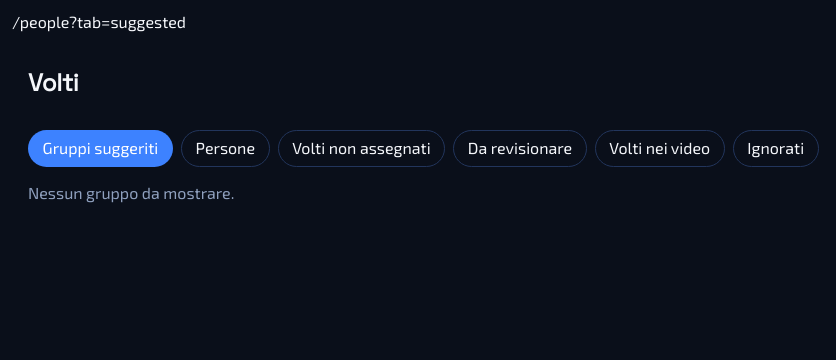
Test case: Faces tab URL contract › writes the tab to the URL when the user picks one
Click the button "Persone". click: (225, 148)
box: [181,130,270,167]
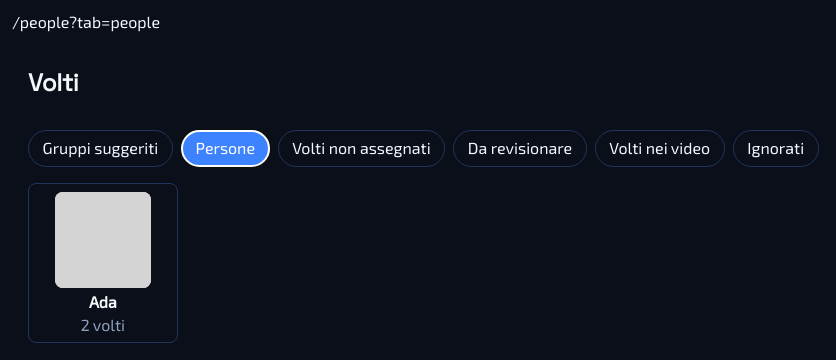
Expected: the text with test id "location" reads "/people?tab=people", [12,12,160,31]
